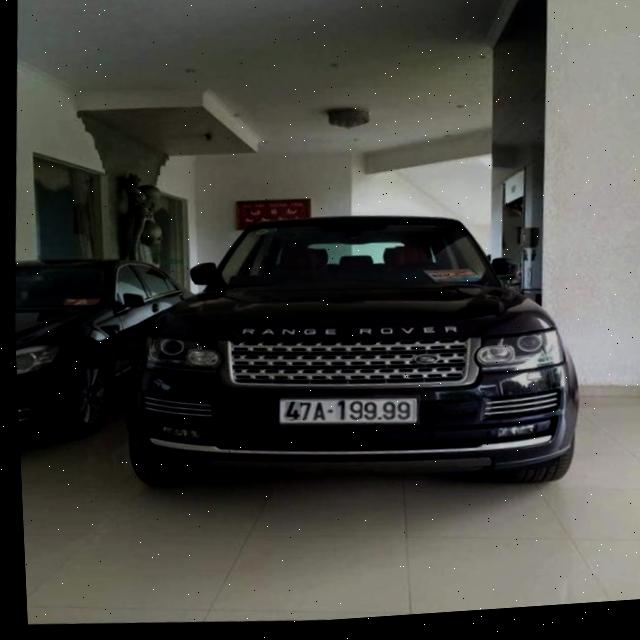car: (99, 186, 569, 523), (12, 251, 160, 462)
plate: (272, 380, 424, 438)
